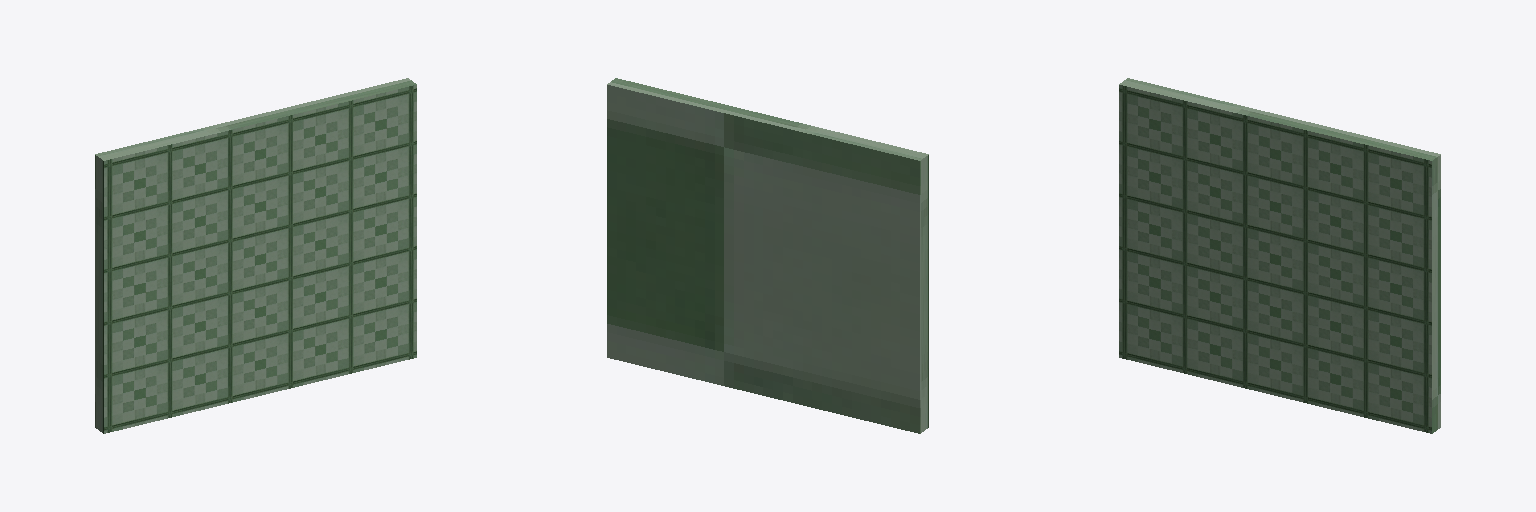
3 renders of one model, left to right at view 1: azimuth 30°, elevation 25°; view 2: azimuth 150°, elevation 25°; view 3: azimuth 330°, elevation 25°, orthographic.
Visible parts, largest first — view 1: Cube; view 2: Cube; view 3: Cube.
Boxes of the visible parts, box(x1,y1,x2,y2) form: Cube: box(95, 78, 416, 433); Cube: box(607, 78, 928, 433); Cube: box(1119, 78, 1440, 433).
Size of the model in its own units: 6 by 5 by 0.3.
1 materials, 1 textured.